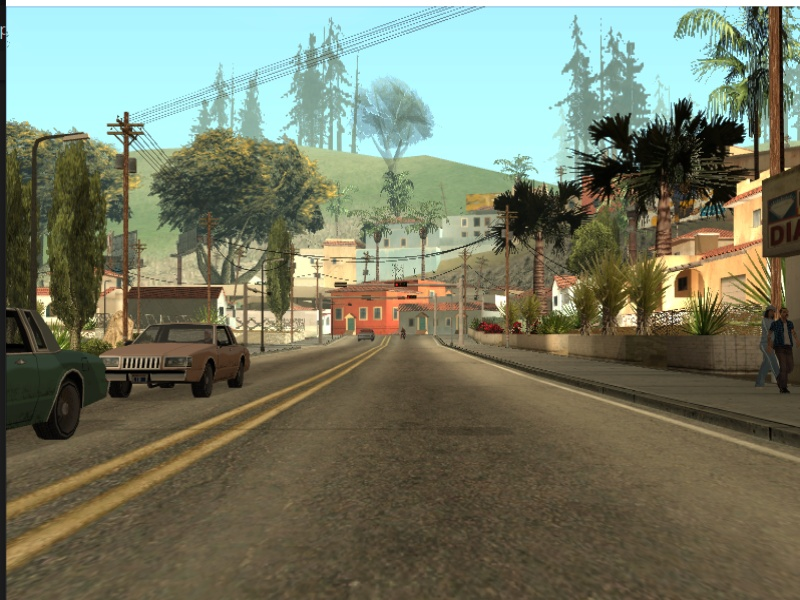person: (770, 308, 797, 394), (755, 303, 774, 395)
pole: (108, 116, 136, 339), (498, 204, 521, 349), (197, 211, 224, 322), (312, 262, 329, 346), (258, 262, 269, 353), (459, 277, 467, 349)
vehicle: (100, 307, 257, 404), (4, 299, 108, 437), (358, 327, 378, 342), (400, 328, 407, 338)
